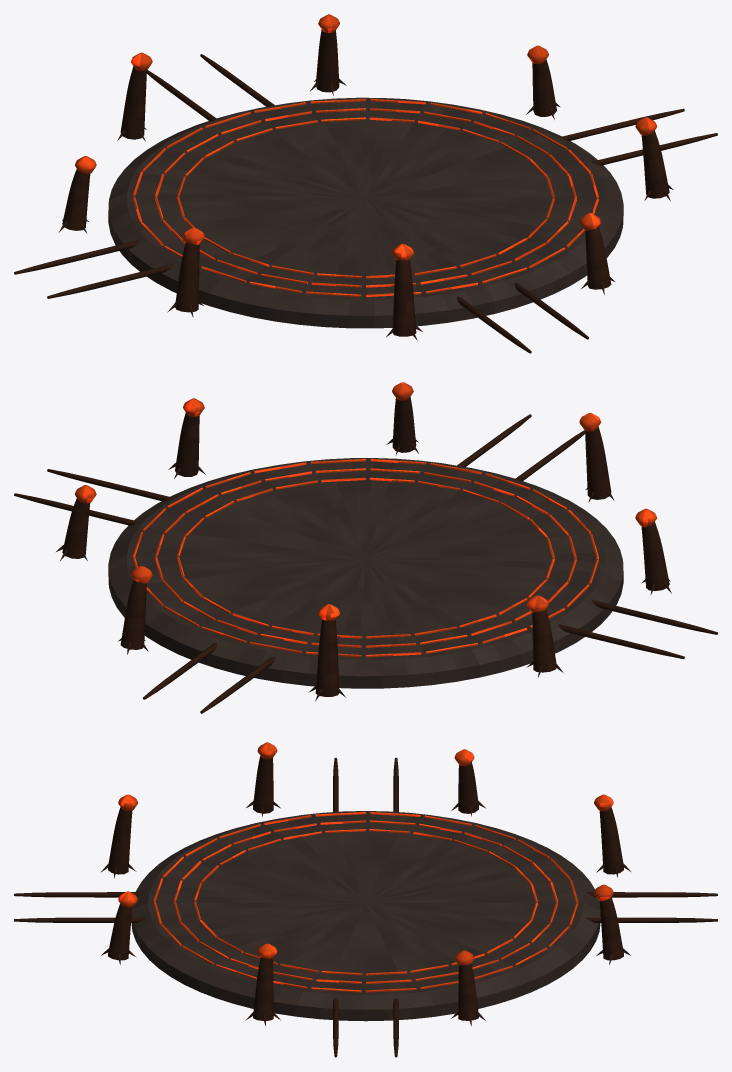
File: underworld-boss-arena-furnace-heart.glb
The picture shows the model from 3 angles, top to bottom: view 1: azimuth 30°, elevation 25°; view 2: azimuth 150°, elevation 25°; view 3: azimuth 270°, elevation 25°; orthographic projection. The views are drawn at different scales.
Parts seen in each view (by area): view 1: combat-foundation, floor-inlay-2, floor-inlay-1, floor-inlay-0, buttress-5, buttress-2, buttress-4, buttress-7, buttress-1, buttress-6, buttress-3, buttress-0 (+7 smaller); view 2: combat-foundation, floor-inlay-2, floor-inlay-1, floor-inlay-0, buttress-2, buttress-5, buttress-1, buttress-4, buttress-7, buttress-3, buttress-0, buttress-6 (+7 smaller); view 3: combat-foundation, floor-inlay-2, floor-inlay-1, floor-inlay-0, buttress-5, buttress-2, buttress-7, buttress-1, buttress-4, buttress-0, buttress-6, buttress-3 (+4 smaller).
Boxes of the visible parts, box(x1,y1,x2,y2) form: combat-foundation: box(108, 97, 623, 328); floor-inlay-2: box(133, 98, 598, 296); floor-inlay-1: box(155, 108, 576, 287); floor-inlay-0: box(177, 117, 554, 278); buttress-5: box(392, 259, 416, 336); buttress-2: box(120, 66, 146, 139); buttress-4: box(175, 242, 199, 312); buttress-7: box(641, 131, 669, 198); buttress-1: box(316, 29, 339, 92); buttress-6: box(585, 227, 611, 289); buttress-3: box(62, 169, 90, 230); buttress-0: box(532, 59, 556, 116); combat-foundation: box(108, 458, 623, 688); floor-inlay-2: box(133, 459, 598, 657); floor-inlay-1: box(155, 468, 576, 647); floor-inlay-0: box(177, 477, 554, 638); buttress-2: box(315, 619, 339, 696); buttress-5: box(585, 426, 611, 499); buttress-1: box(120, 580, 146, 649); buttress-4: box(641, 522, 669, 590); buttress-7: box(175, 412, 199, 476); buttress-3: box(532, 609, 556, 672); buttress-0: box(62, 498, 90, 558); buttress-6: box(392, 397, 416, 452); combat-foundation: box(131, 811, 600, 1021); floor-inlay-2: box(153, 812, 578, 992); floor-inlay-1: box(174, 820, 557, 983); floor-inlay-0: box(194, 829, 537, 975); buttress-5: box(108, 807, 132, 874); buttress-2: box(599, 807, 623, 874); buttress-7: box(253, 957, 273, 1020); buttress-1: box(599, 897, 623, 960); buttress-4: box(253, 756, 273, 813); buttress-0: box(458, 963, 478, 1020); buttress-6: box(108, 903, 132, 960); buttress-3: box(458, 762, 478, 813).
Bounding box in the file's own units: 42 × 5.6 × 42.
3 materials, 3 textured.
